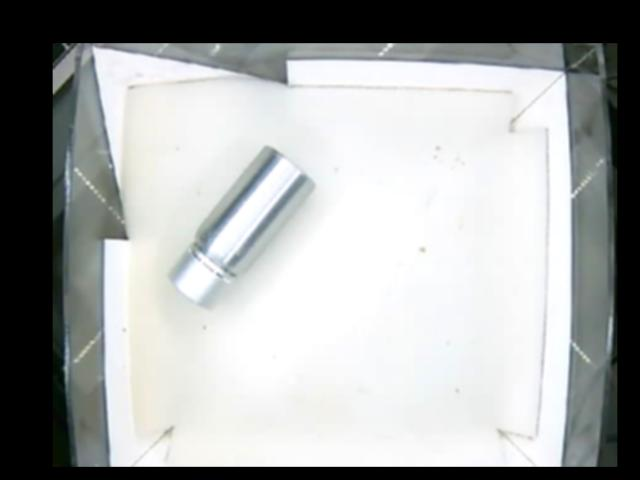Bottle: (168, 144, 314, 312)
